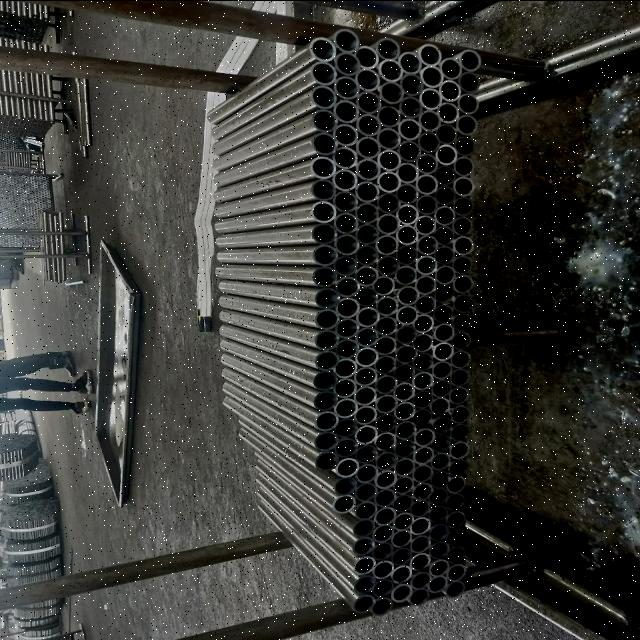pipe: (308, 36, 336, 62), (309, 200, 337, 224), (333, 52, 361, 76), (332, 28, 358, 53), (309, 86, 337, 109), (312, 243, 338, 267), (310, 62, 336, 86), (332, 99, 358, 123), (332, 76, 358, 100), (356, 90, 382, 114), (311, 308, 339, 330), (311, 288, 339, 310), (308, 179, 336, 201), (308, 156, 336, 178), (310, 222, 336, 245), (354, 45, 378, 69), (311, 266, 337, 288), (333, 297, 359, 319), (331, 191, 357, 213), (332, 169, 358, 191), (332, 147, 358, 169), (332, 124, 358, 146), (310, 132, 336, 154), (310, 110, 336, 132), (354, 158, 380, 180), (354, 136, 380, 158), (355, 114, 381, 136), (374, 38, 400, 60), (311, 330, 339, 350), (334, 212, 358, 235), (333, 358, 358, 380), (334, 276, 359, 298), (333, 234, 358, 256), (353, 265, 378, 287), (373, 234, 398, 256), (376, 149, 401, 171), (376, 127, 401, 149), (376, 105, 401, 127), (378, 82, 403, 104), (377, 59, 402, 81), (393, 224, 418, 246), (416, 44, 441, 66), (334, 338, 358, 360), (355, 306, 379, 328), (354, 244, 378, 266), (354, 202, 378, 224), (354, 181, 378, 203), (354, 68, 378, 90), (374, 296, 398, 318), (376, 171, 400, 193), (397, 118, 421, 140), (398, 96, 422, 118), (397, 51, 421, 73), (419, 66, 443, 88), (333, 437, 358, 458), (312, 370, 338, 390), (312, 350, 338, 370), (438, 80, 461, 102), (438, 57, 461, 79), (458, 49, 481, 71), (313, 411, 337, 432), (334, 318, 358, 339), (353, 424, 377, 445), (354, 347, 378, 368), (376, 213, 400, 234), (376, 192, 400, 213), (399, 74, 423, 95), (332, 476, 357, 496), (333, 458, 358, 478), (333, 418, 358, 438), (333, 398, 358, 418), (333, 256, 358, 276), (352, 366, 377, 386), (373, 374, 398, 394), (373, 355, 398, 375), (392, 420, 417, 440), (396, 203, 418, 225), (418, 88, 440, 110), (456, 92, 478, 114), (352, 575, 376, 595), (314, 452, 338, 472), (313, 431, 337, 451), (313, 391, 337, 411), (333, 378, 357, 398), (354, 444, 378, 464), (353, 405, 377, 425), (354, 224, 378, 244), (373, 432, 397, 452), (376, 255, 400, 275), (393, 265, 417, 285), (395, 162, 419, 182), (396, 141, 420, 161), (392, 401, 414, 422), (396, 285, 418, 306), (416, 173, 438, 194), (418, 132, 440, 153), (434, 165, 456, 186), (434, 144, 456, 165), (436, 102, 458, 123), (452, 176, 474, 197), (370, 578, 394, 597), (351, 519, 375, 538), (369, 598, 394, 616), (372, 470, 397, 488), (390, 582, 412, 602), (445, 562, 467, 582), (372, 560, 394, 580), (332, 495, 354, 515), (374, 506, 396, 526), (355, 463, 377, 483), (354, 386, 376, 406), (356, 327, 378, 347), (356, 286, 378, 306), (375, 394, 397, 414), (374, 336, 396, 356), (375, 316, 397, 336), (372, 276, 394, 296), (393, 457, 415, 477), (392, 382, 414, 402), (394, 344, 416, 364), (395, 324, 417, 344), (395, 305, 417, 325), (396, 245, 418, 265), (396, 184, 418, 204), (410, 482, 432, 502), (412, 463, 434, 483), (412, 445, 434, 465), (413, 428, 435, 448), (412, 370, 434, 390), (414, 294, 436, 314), (414, 255, 436, 275), (416, 235, 438, 255), (414, 215, 436, 235), (414, 195, 436, 215), (414, 154, 436, 174), (432, 342, 454, 362), (432, 322, 454, 342), (432, 245, 454, 265), (433, 206, 455, 226), (433, 186, 455, 206), (434, 124, 456, 144), (450, 331, 472, 351), (452, 273, 474, 293), (452, 235, 474, 255), (452, 216, 474, 236), (452, 196, 474, 216), (452, 157, 474, 177), (456, 114, 476, 136), (458, 72, 480, 92), (352, 556, 376, 574), (353, 483, 377, 501), (373, 452, 397, 470), (374, 413, 396, 432), (392, 475, 414, 494), (393, 439, 415, 458), (414, 275, 436, 294), (408, 553, 431, 571), (389, 530, 412, 548), (408, 534, 431, 552), (412, 333, 432, 353), (418, 111, 438, 131), (433, 226, 453, 246), (450, 350, 470, 370), (451, 312, 471, 332), (454, 136, 474, 156), (408, 588, 430, 606), (409, 572, 431, 590), (352, 538, 374, 556), (372, 542, 394, 560), (372, 524, 394, 542), (428, 524, 450, 542), (374, 488, 396, 506), (354, 502, 376, 520), (390, 512, 412, 530), (410, 408, 432, 426), (412, 390, 434, 408), (412, 353, 434, 371), (434, 266, 456, 284), (448, 441, 470, 459), (448, 386, 470, 404), (452, 256, 474, 274), (445, 510, 465, 529), (428, 488, 448, 507), (394, 363, 414, 382), (412, 314, 432, 333), (450, 405, 470, 424), (449, 368, 469, 387), (389, 566, 412, 582), (427, 575, 447, 593), (429, 541, 449, 559), (445, 528, 465, 546), (409, 517, 429, 535), (410, 500, 430, 518), (446, 493, 466, 511), (392, 494, 412, 512), (432, 435, 452, 453), (431, 417, 451, 435), (429, 397, 449, 415), (430, 379, 450, 397), (431, 361, 451, 379), (433, 304, 453, 322), (434, 285, 454, 303), (446, 475, 466, 493), (450, 423, 470, 441), (452, 294, 472, 312), (353, 596, 375, 612), (444, 581, 466, 597), (390, 548, 412, 564), (429, 506, 447, 524), (428, 560, 448, 576), (446, 547, 466, 563), (448, 460, 468, 476), (431, 470, 448, 488), (431, 452, 448, 470)
